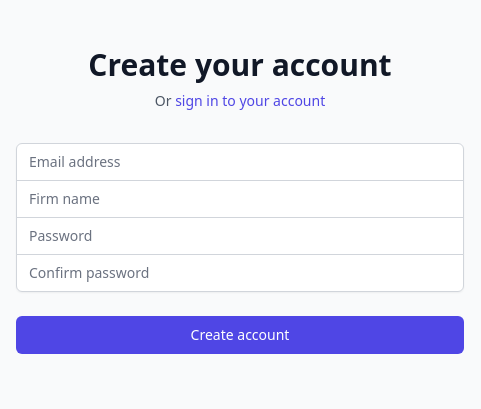
Signup Component › handles signup error
Type "test@example.com" into the field with placeholder "Email address".
click(240, 162); type("test@example.com")  # box [16,142,464,180]
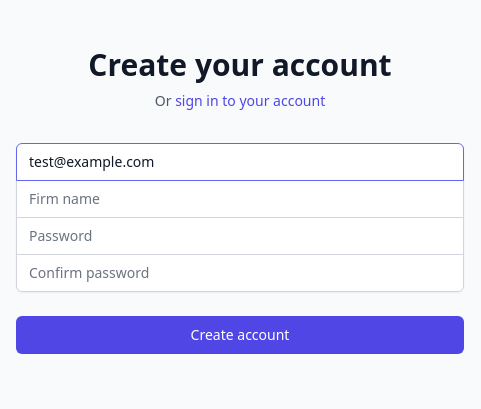
Type "Test Firm" into the field with placeholder "Firm name".
click(240, 198); type("Test Firm")  # box [16,180,464,218]
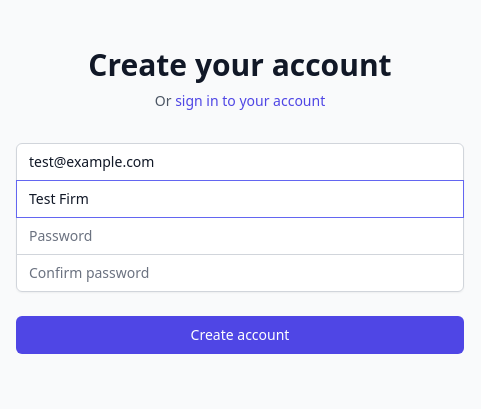
Type "password123" into the password field labelled "Password".
click(240, 236); type("password123")  # box [16,216,464,254]
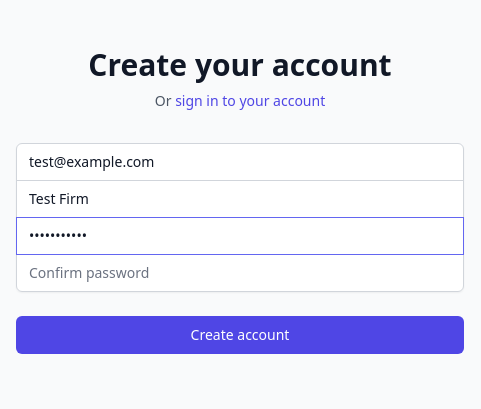
Type "password123" into the password field labelled "Confirm password".
click(240, 272); type("password123")  # box [16,254,464,292]
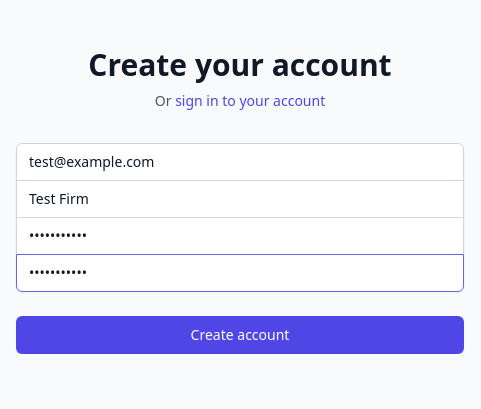
Click the button "Create account".
click(240, 334)  # box [16,316,464,354]
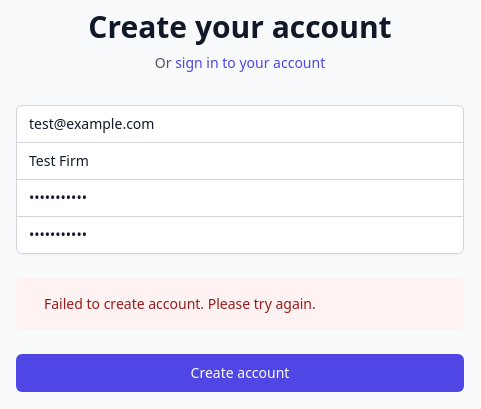
Expected: the heading "Failed to create account. Please try again." is shown, [44,294,316,314]
